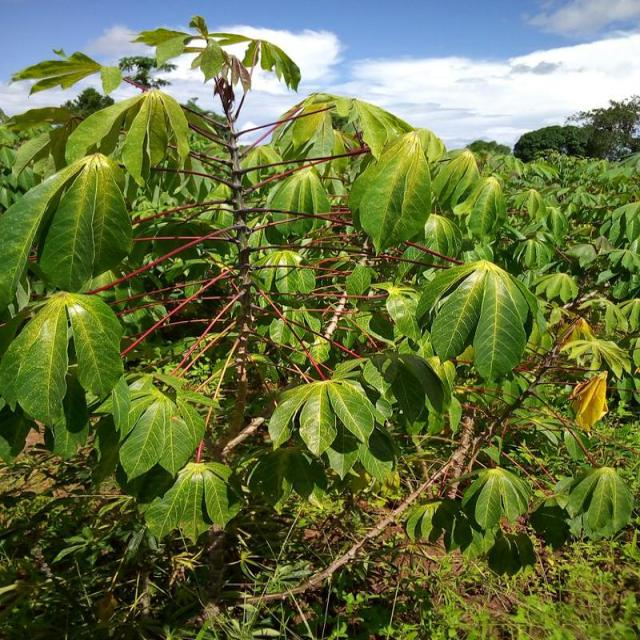cassava leaf: (0, 150, 133, 312), (0, 289, 124, 431), (417, 258, 541, 383), (357, 130, 431, 254)
